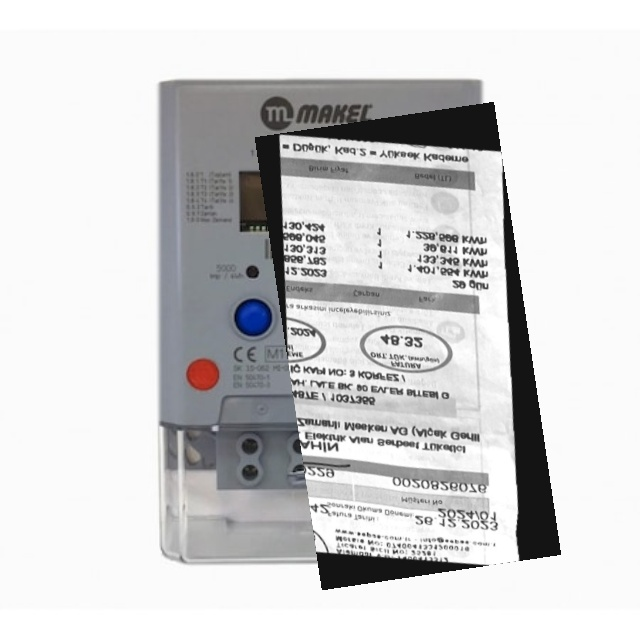electricity-bill: (255, 102, 561, 590)
